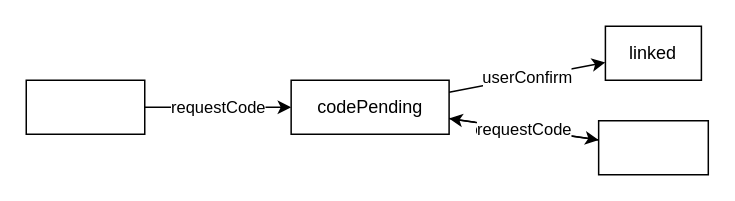
Image size: 735x201. Some labels were removed from this diagram. Each missing label, with the box of its shape:
expired: (597, 119, 708, 175)
unlinked: (25, 79, 145, 134)
